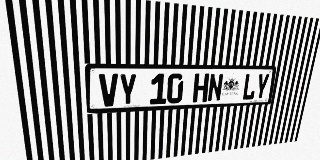0: (166, 73, 184, 104)
1: (150, 73, 167, 104)
H: (192, 73, 209, 103)
L: (241, 73, 258, 100)
N: (207, 73, 224, 102)
V: (99, 74, 118, 107)
Y: (119, 74, 137, 106), (254, 73, 270, 100)
